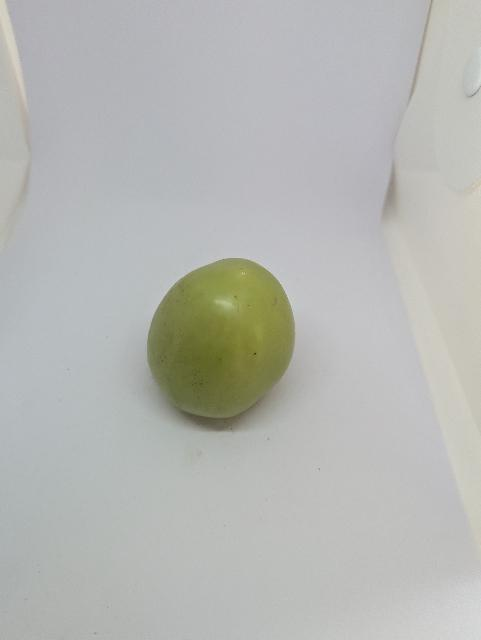green: (115, 250, 319, 445)
